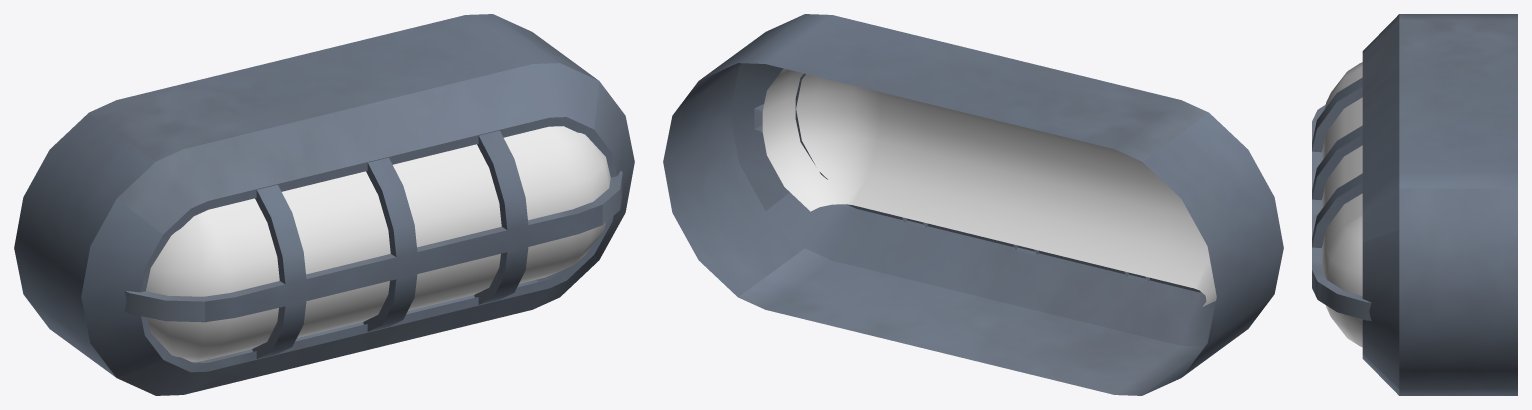
File: LightBulb_02.fbx
3 views of the same model, side by side, from view 1: azimuth 30°, elevation 25°; view 2: azimuth 150°, elevation 25°; view 3: azimuth 270°, elevation 25° (orthographic). The views are drawn at different scales.
Visible parts, largest first — view 1: LightBulb_02; view 2: LightBulb_02; view 3: LightBulb_02.
Part boxes in pixels (bbox=[...]): LightBulb_02: bbox=[14, 14, 634, 395]; LightBulb_02: bbox=[663, 14, 1283, 395]; LightBulb_02: bbox=[1312, 14, 1517, 395].
Size of the model in its own units: 64.12 by 27.2 by 23.34.
